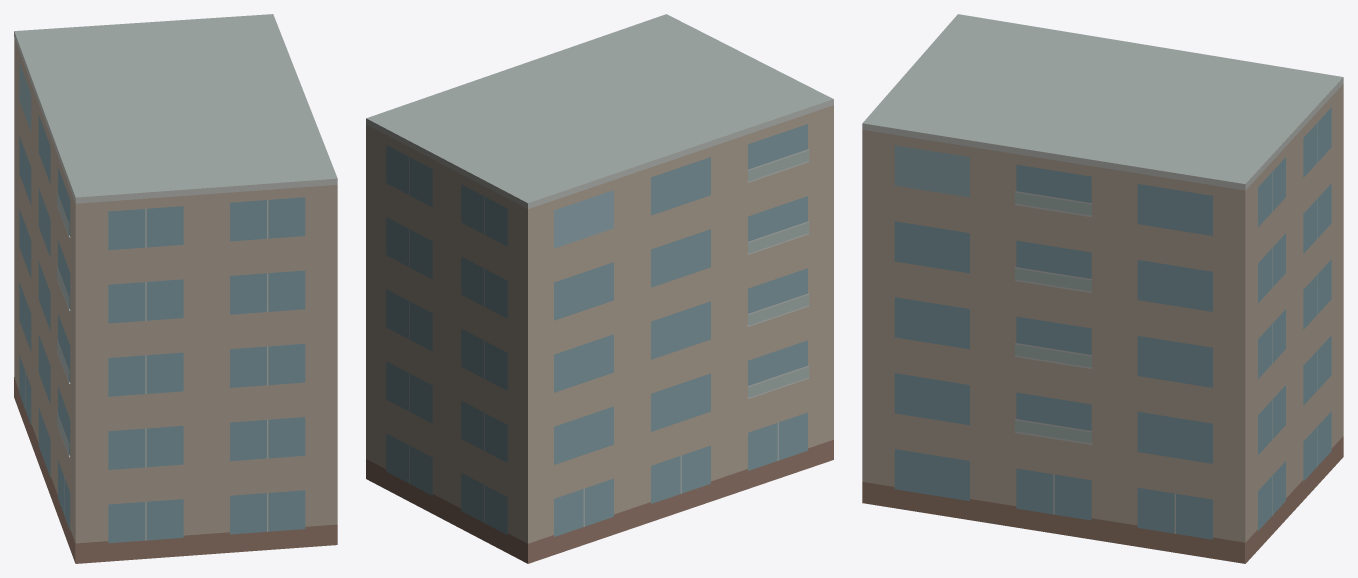
File: survey-upis-32875018.glb
3 views of the same model, side by side, from view 1: azimuth 30°, elevation 25°; view 2: azimuth 150°, elevation 25°; view 3: azimuth 270°, elevation 25° (orthographic). The views are drawn at different scales.
Parts seen in each view (by area): view 1: survey-upis-32875018.tmp; view 2: survey-upis-32875018.tmp; view 3: survey-upis-32875018.tmp.
Boxes of the visible parts, x1,y1,x2,y2 form: survey-upis-32875018.tmp: (14, 14, 337, 563); survey-upis-32875018.tmp: (366, 14, 833, 563); survey-upis-32875018.tmp: (862, 14, 1343, 563).
Size of the model in its own units: 14.09 by 14.65 by 16.84.
